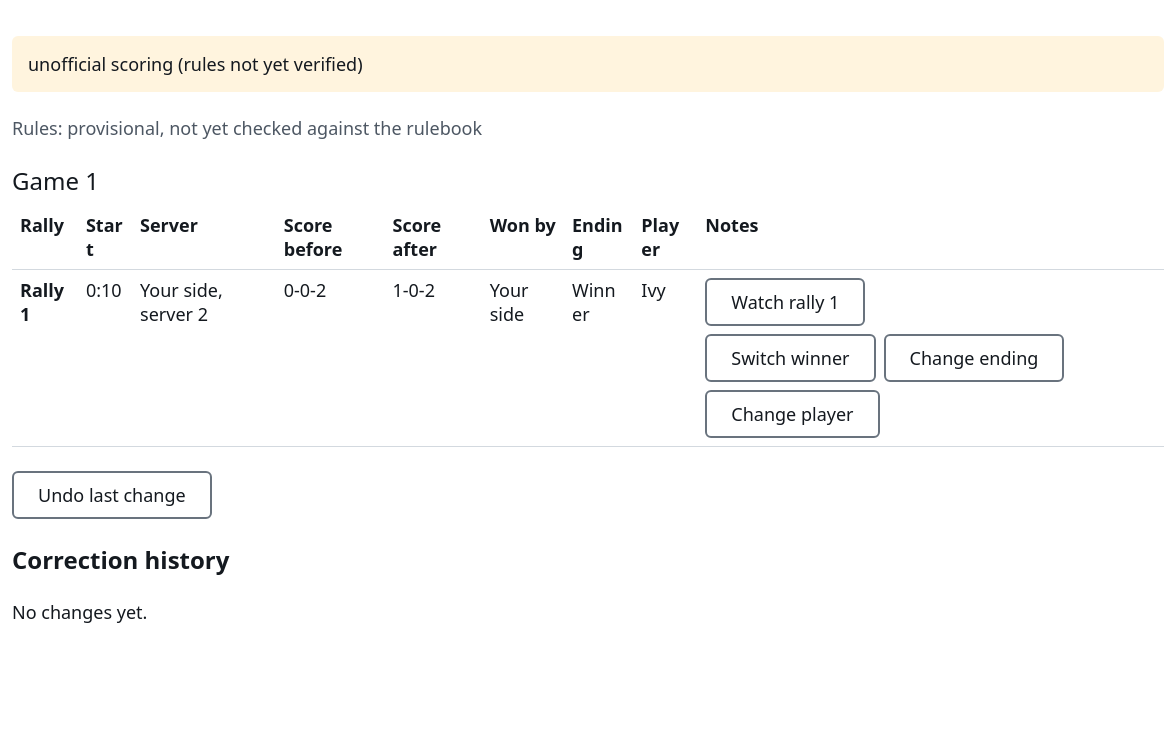
it: rally corrections on the score sheet (ST-032) › PD-S2R1-01: switching the winner of a rally with a tagged player also clears the player, in one command
Click the button with aria-label "Switch winner, rally 1, to the other side" at (790, 358), box [705, 334, 876, 382]
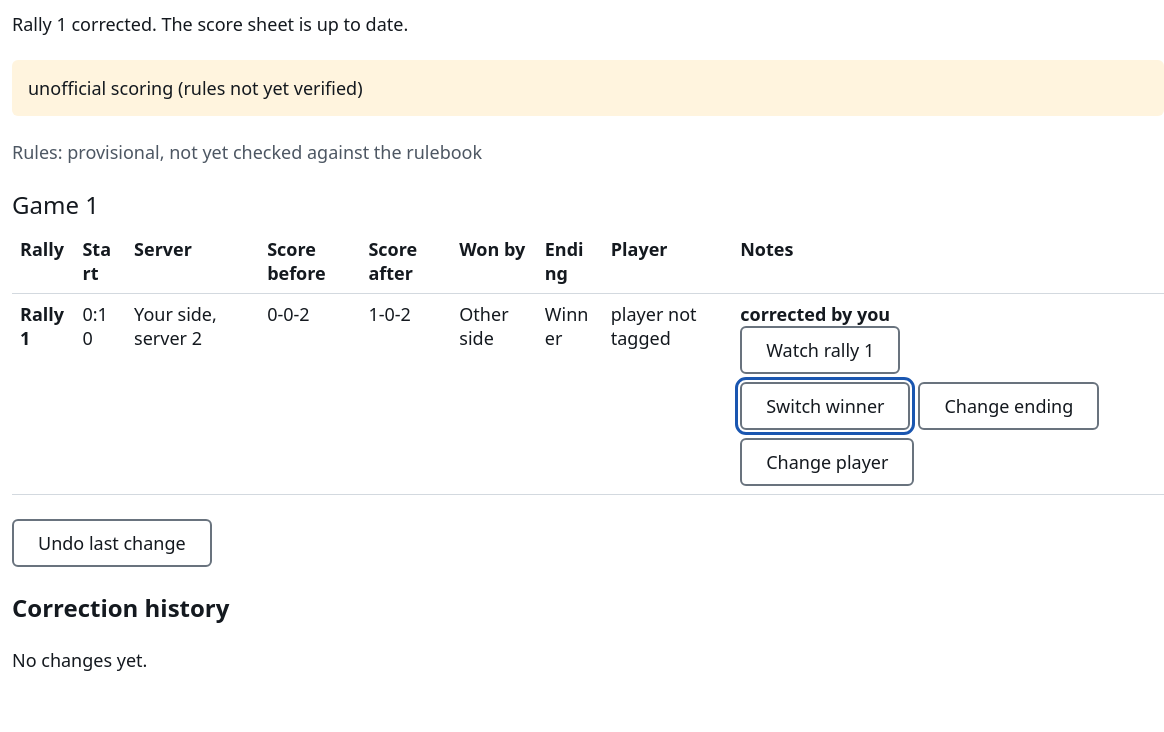
Result: the message reads "Rally 1 corrected. The score sheet is up to date." at [12, 12, 408, 36]
